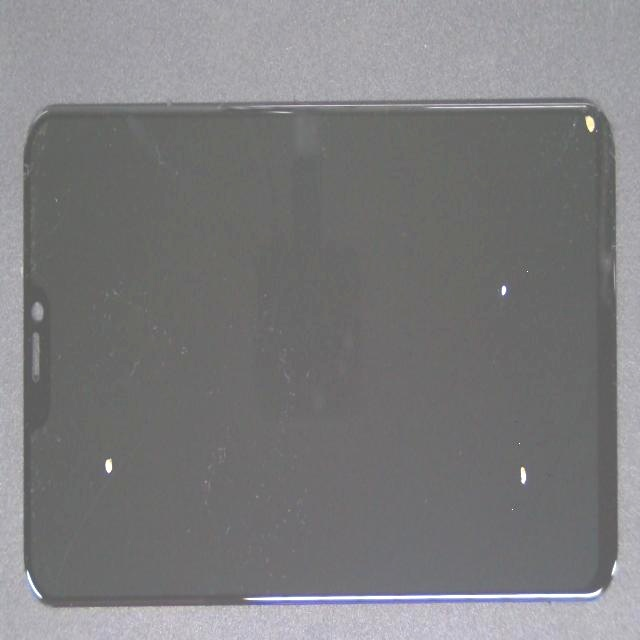stain: (232, 229, 640, 640), (217, 126, 640, 439), (13, 223, 152, 640)
